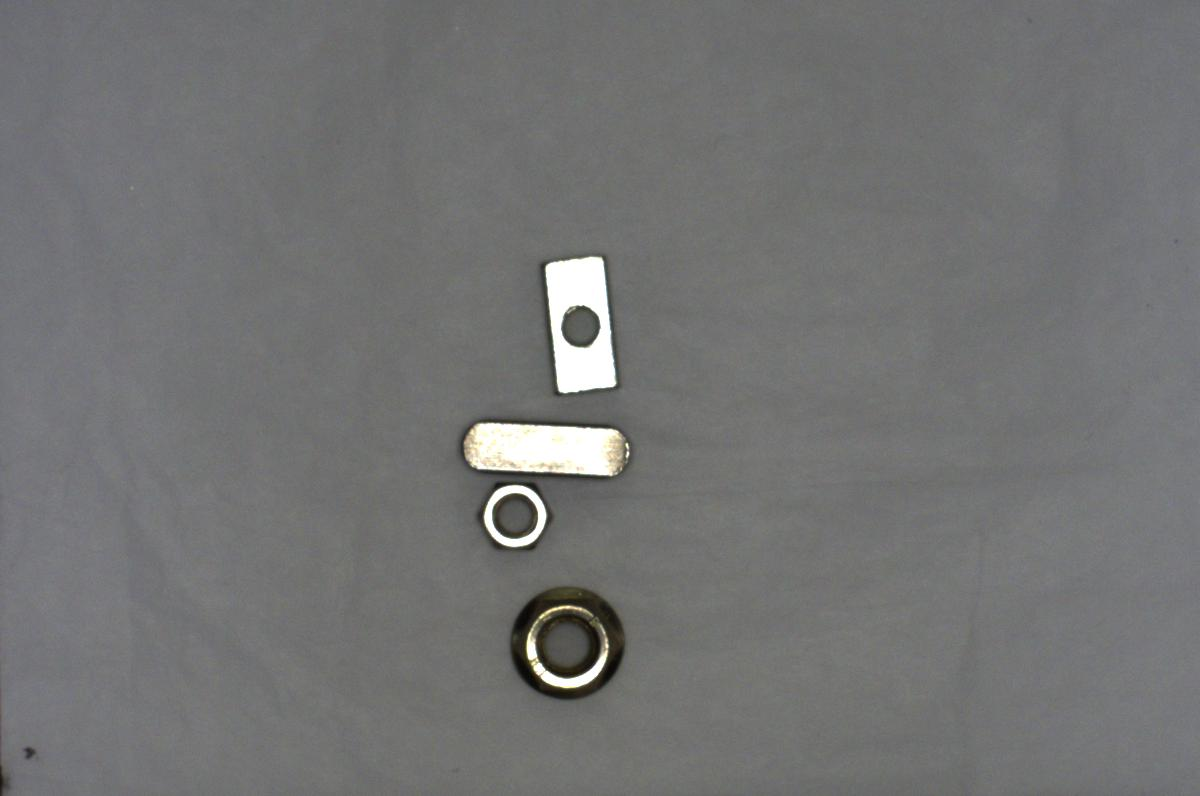Flange nut: (504, 572, 637, 713)
Hexagon nut: (467, 478, 555, 553)
Keybar: (455, 401, 641, 486)
Rectangular nut: (533, 243, 632, 401)
